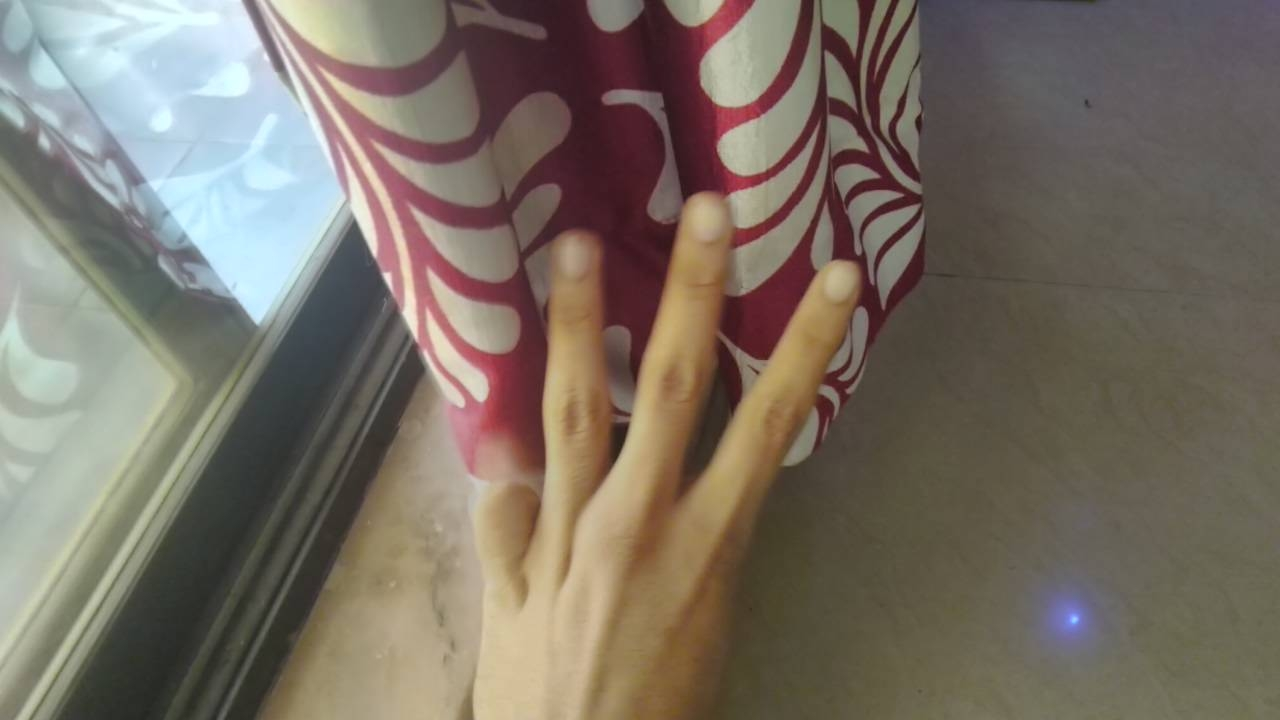fingertip: (670, 182, 734, 256), (802, 248, 866, 316), (546, 226, 606, 290)
